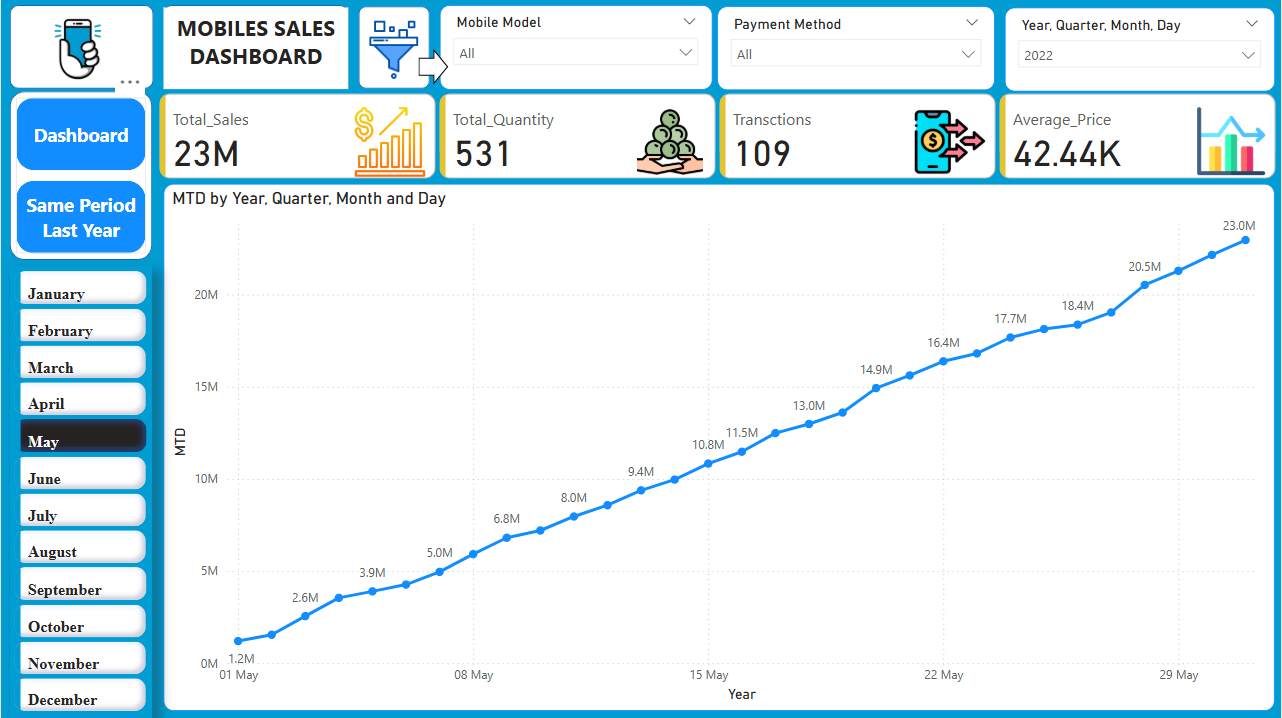

This screenshot's page, from the dashboard's own definition file:
{"tool":"powerbi","page":{"name":"MTD Report","canvas":[1280,720],"ordinal":1},"visuals":[{"type":"shape","box":[8.8,5,143.8,83.8],"z":0},{"type":"shape","box":[8.8,91.2,142.5,168.8],"z":2000},{"type":"cardVisual","fields":{"Data":["Mobiles_Sales_Data.Total_Sales","Mobiles_Sales_Data.Total_Quantity","Mobiles_Sales_Data.Transctions","Mobiles_Sales_Data.Average_Price"]},"box":[153.8,88.8,1126.2,95],"z":3000},{"type":"slicer","fields":{"Values":["Mobiles_Sales_Data.Mobile Model"]},"box":[438.8,5,272.5,85],"z":4000},{"type":"slicer","fields":{"Values":["Mobiles_Sales_Data.Payment Method"]},"box":[716.2,6.2,277.5,83.8],"z":5000},{"type":"slicer","fields":{"Values":["Custom_Calender.Date.Variation.Date Hierarchy.Year","Custom_Calender.Date.Variation.Date Hierarchy.Quarter","Custom_Calender.Date.Variation.Date Hierarchy.Month","Custom_Calender.Date.Variation.Date Hierarchy.Day"]},"box":[1003.8,7.5,270,83.8],"z":6000},{"type":"shape","box":[357.5,6.2,71.2,82.5],"z":7000},{"type":"image","box":[310,15,166.2,70],"z":8000},{"type":"shape","box":[162.5,5,185,83.8],"z":9000},{"type":"textbox","box":[162.5,7.5,185,81.2],"z":10000},{"type":"shape","box":[417.5,48.8,30,36.2],"z":11000},{"type":"lineChart","fields":{"Y":["Mobiles_Sales_Data.MTD"],"Category":["Custom_Calender.Date.Variation.Date Hierarchy.Year","Custom_Calender.Date.Variation.Date Hierarchy.Quarter","Custom_Calender.Date.Variation.Date Hierarchy.Month","Custom_Calender.Date.Variation.Date Hierarchy.Day"]},"box":[162.5,183.8,1111.2,527.5],"z":12000},{"type":"advancedSlicerVisual","fields":{"Values":["Custom_Calender.Date.Variation.Date Hierarchy.Month"]},"box":[8.8,266.2,142.5,453.8],"z":13000},{"type":"pageNavigator","box":[15,97.5,130,156.2],"z":13001},{"type":"image","box":[33.8,7.5,82.5,82.5],"z":13002}]}

Visuals, with their boxes in screenshot pixels (x1, y1, x2, y2), scaled from the page's 1280x720 canvas onto the 1282x718 screenshot:
shape: box(9, 5, 153, 89)
shape: box(9, 91, 152, 259)
cardVisual - Mobiles_Sales_Data.Total_Sales x Mobiles_Sales_Data.Total_Quantity: box(154, 89, 1281, 183)
slicer - Mobiles_Sales_Data.Mobile Model: box(439, 5, 712, 90)
slicer - Mobiles_Sales_Data.Payment Method: box(717, 6, 995, 90)
slicer - Custom_Calender.Date.Variation.Date Hierarchy.Year x Custom_Calender.Date.Variation.Date Hierarchy.Quarter: box(1005, 7, 1276, 91)
shape: box(358, 6, 429, 88)
image: box(310, 15, 477, 85)
shape: box(163, 5, 348, 89)
textbox: box(163, 7, 348, 88)
shape: box(418, 49, 448, 85)
lineChart - Mobiles_Sales_Data.MTD x Custom_Calender.Date.Variation.Date Hierarchy.Year: box(163, 183, 1276, 709)
advancedSlicerVisual - Custom_Calender.Date.Variation.Date Hierarchy.Month: box(9, 265, 152, 717)
pageNavigator: box(15, 97, 145, 253)
image: box(34, 7, 116, 90)
